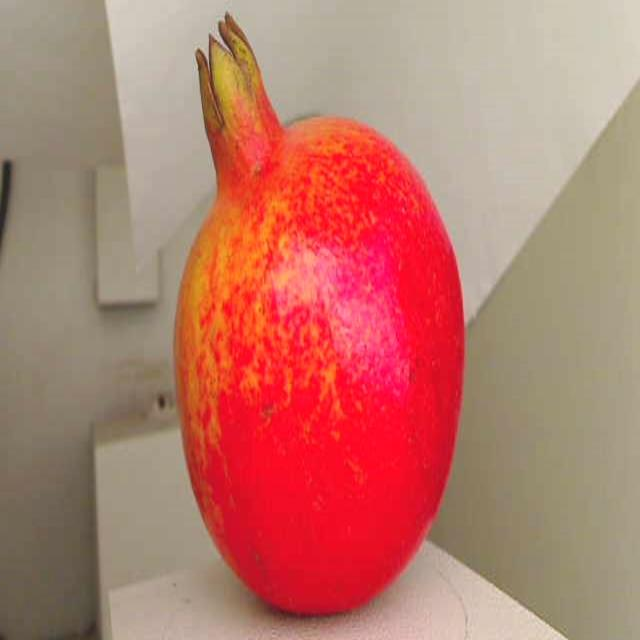pomegranate: (166, 13, 478, 626)
